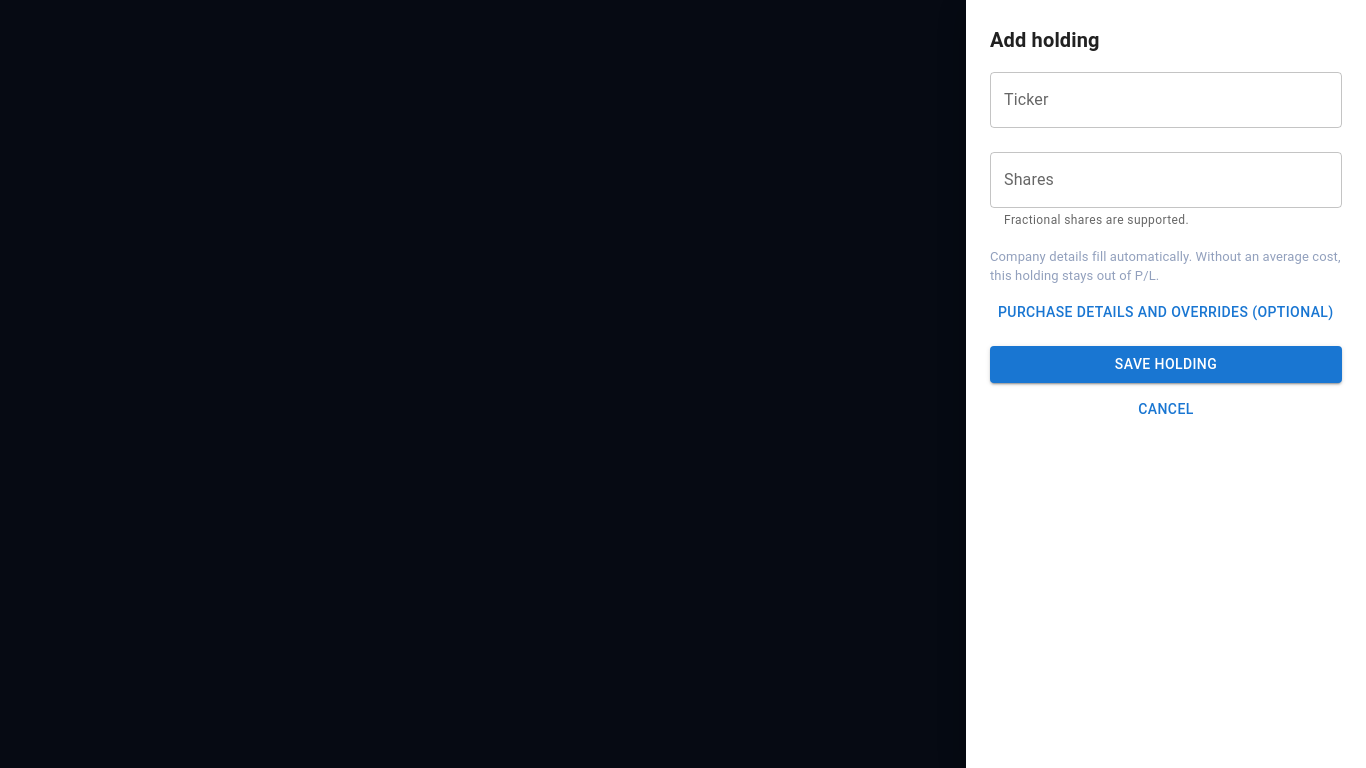
Test case: HoldingForm › does not send a request when a required field is missing
The width and height of the screenshot is (1366, 768).
In the dropdown labelled "Ticker": (1166, 100) [999, 81, 1333, 119], type "AAPL"
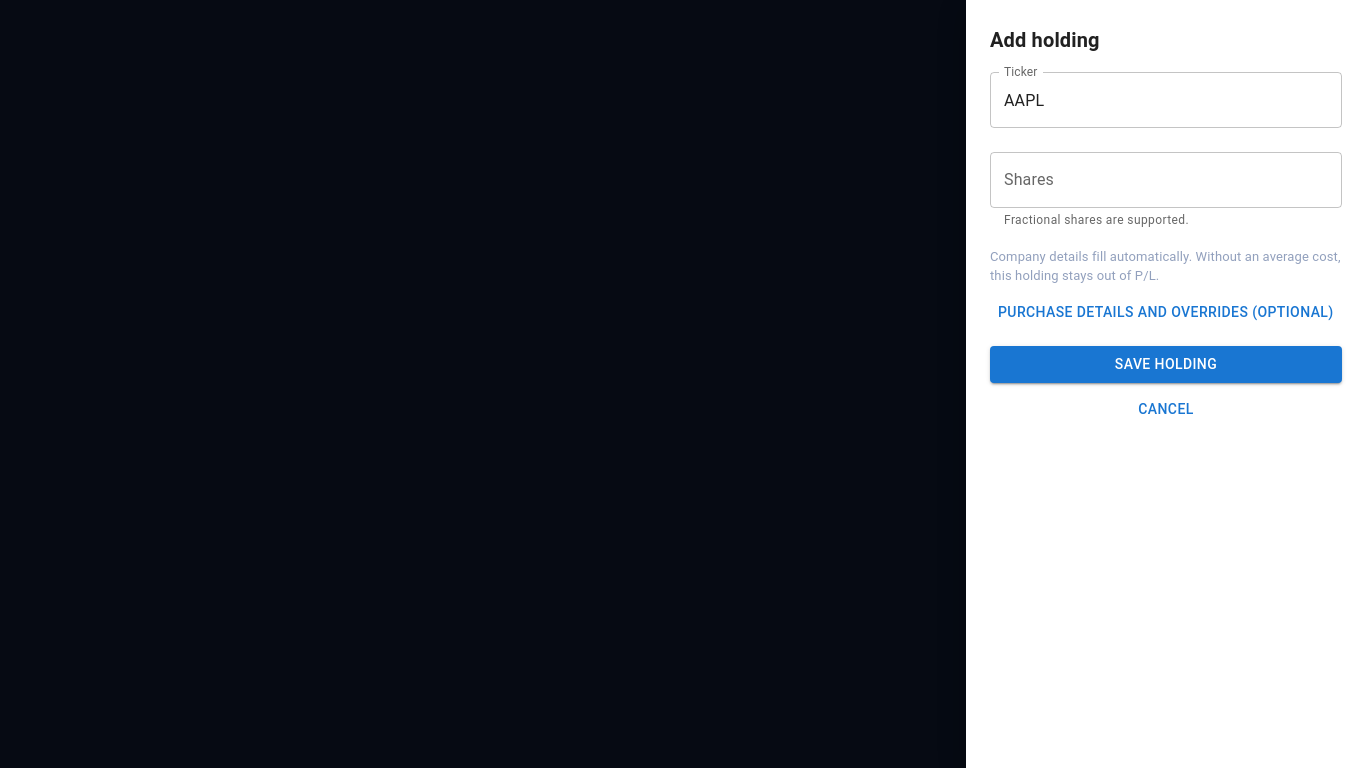
Click the button "Save holding": (1166, 365) [990, 346, 1342, 383]
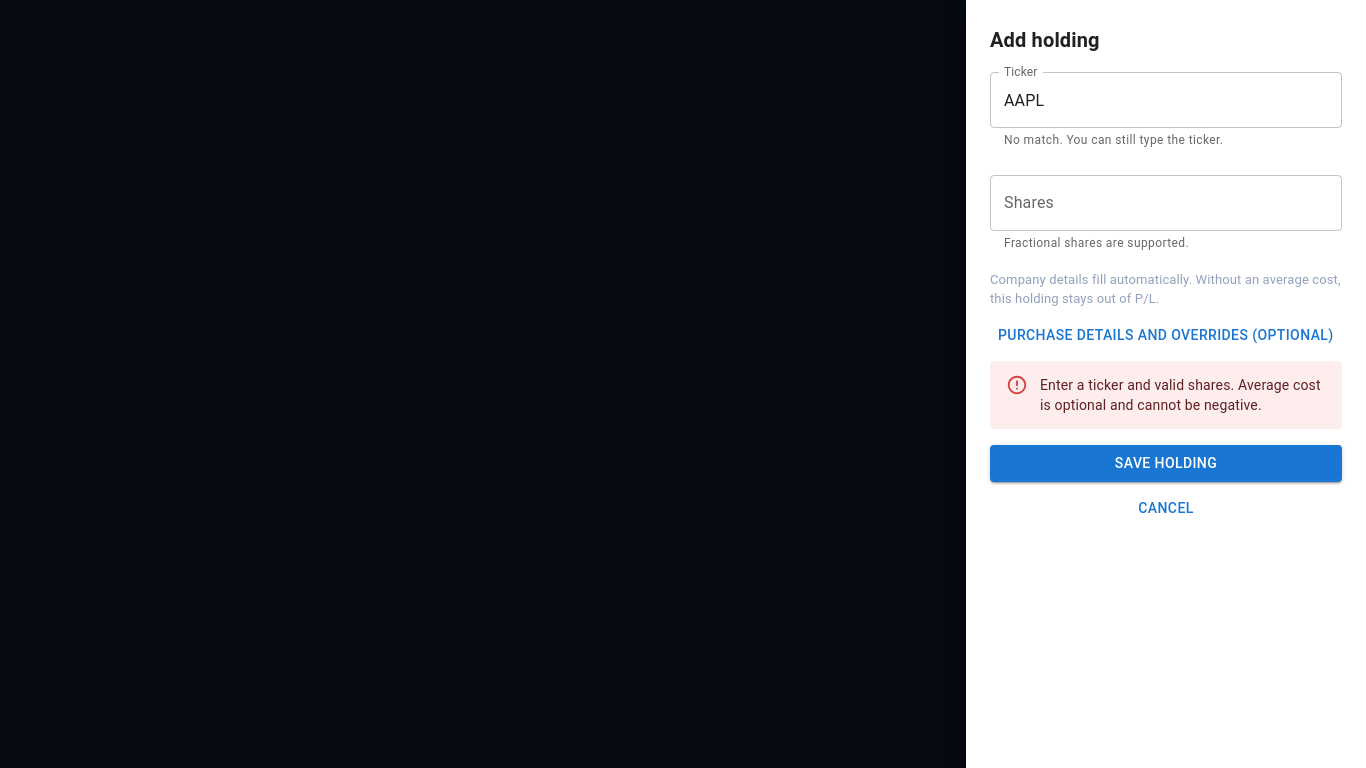
Check: the text "Enter a ticker and valid shares" is shown, box [1040, 377, 1321, 413]
